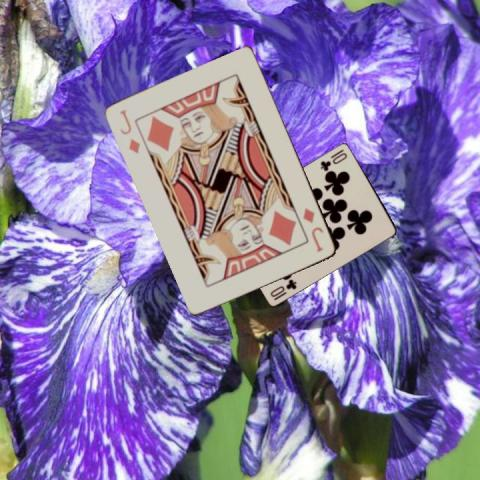10c: (317, 146, 349, 173), (267, 276, 298, 301)
Jd: (300, 205, 325, 254), (117, 107, 142, 155)
